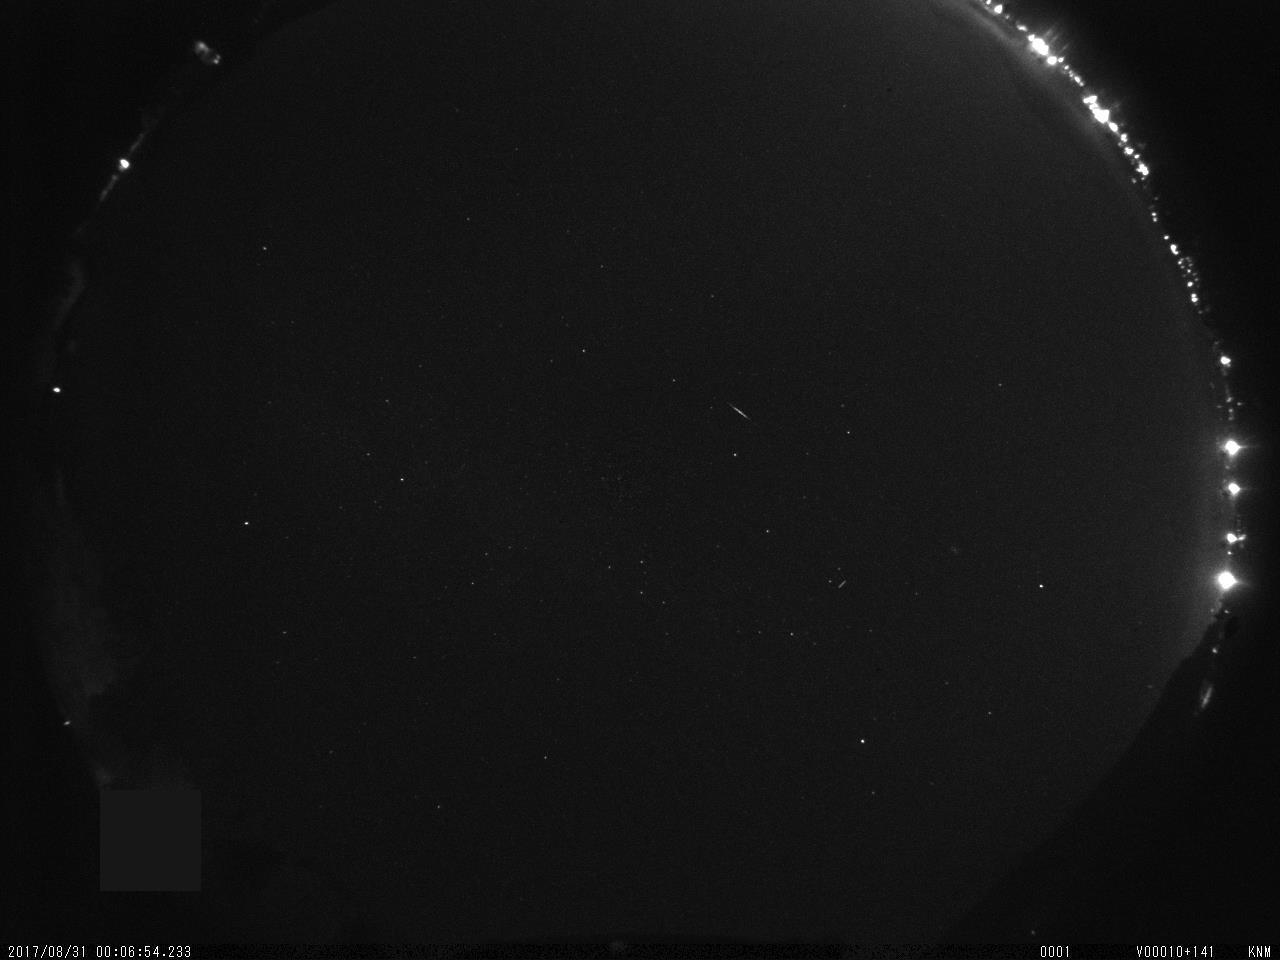Meteor: (725, 398, 763, 430)
